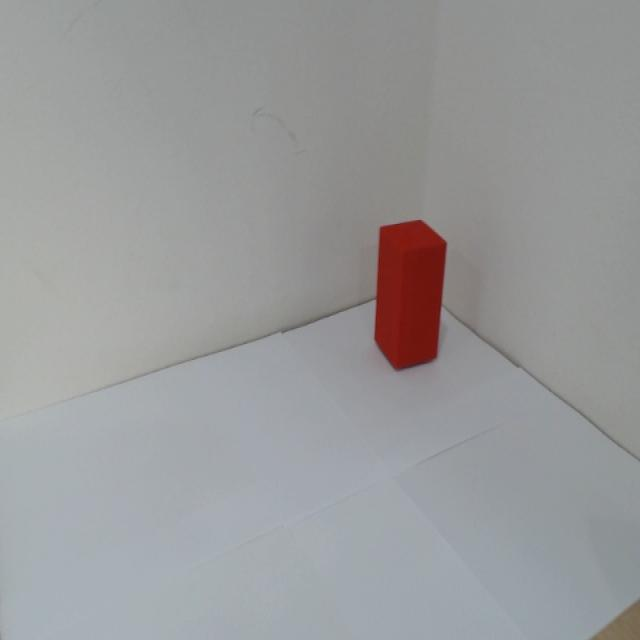cube: (368, 211, 452, 374)
